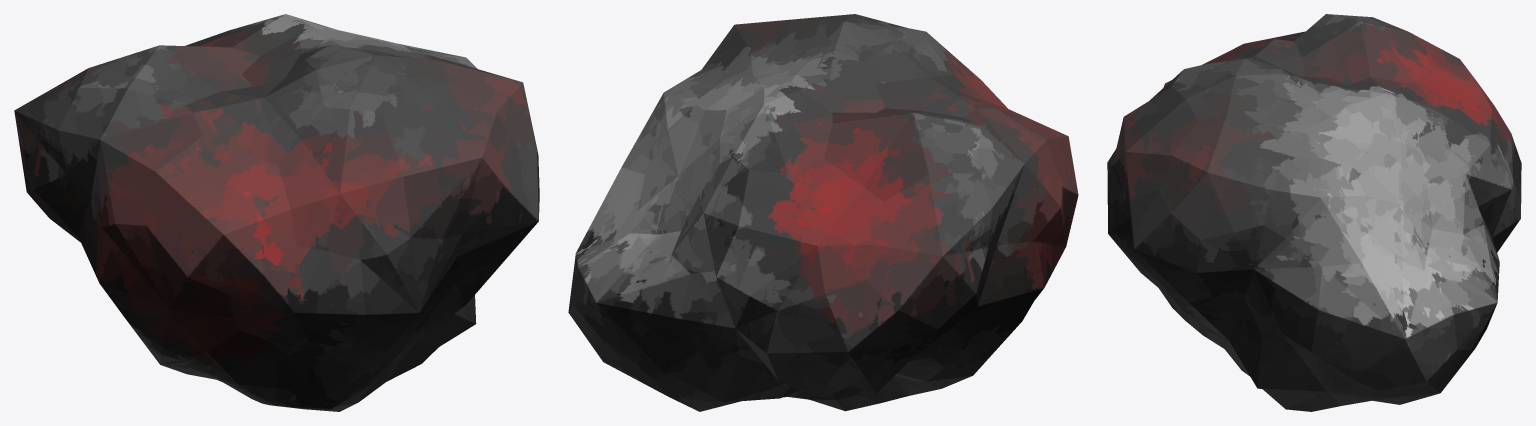
The model's file is BloodRock5.glb.
3 views of the same model, side by side, from view 1: azimuth 30°, elevation 25°; view 2: azimuth 150°, elevation 25°; view 3: azimuth 270°, elevation 25° (orthographic). The views are drawn at different scales.
Visible parts, largest first — view 1: BloodRock5; view 2: BloodRock5; view 3: BloodRock5.
Boxes of the visible parts, box(x1,y1,x2,y2) form: BloodRock5: box(14, 14, 539, 411); BloodRock5: box(568, 14, 1078, 411); BloodRock5: box(1107, 14, 1521, 411).
Bounding box in the file's own units: 4.34 × 3.59 × 4.22.
1 material, 1 textured.
